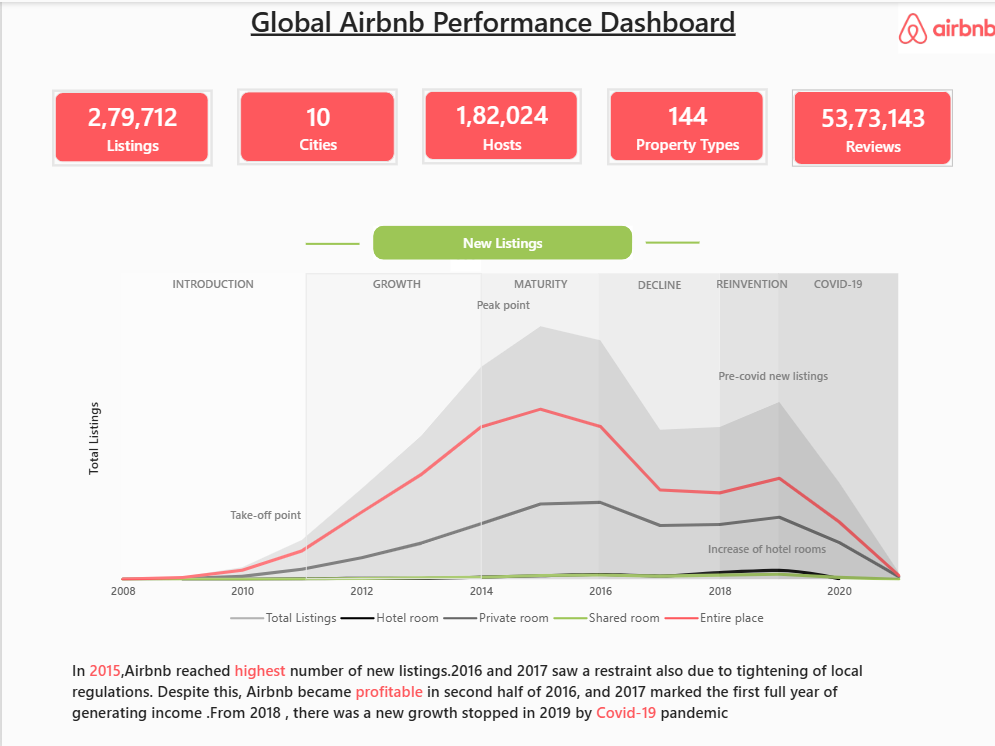

Layout of this report page (visuals, bound fields, positions):
{"tool":"powerbi","page":{"name":"Overview","canvas":[960,720],"ordinal":0},"visuals":[{"type":"textbox","box":[240,0,480,40],"z":0},{"type":"image","box":[864.4,0,95.6,50],"z":1000},{"type":"cardVisual","fields":{"Data":["Count(Listings.property_type)"]},"box":[583.8,83.2,155,74],"z":2000},{"type":"cardVisual","fields":{"Data":["Count(Listings.host_id)"]},"box":[405.7,83.2,154.4,73.6],"z":3000},{"type":"cardVisual","fields":{"Data":["CountNonNull(Listings.listing_id)"]},"box":[48.4,84.8,155,74],"z":4000},{"type":"cardVisual","fields":{"Data":["CountNonNull(Reviews.listing_id)"]},"box":[762.4,84.8,155,74],"z":5000},{"type":"cardVisual","fields":{"Data":["Count(Listings.city)"]},"box":[227,83.2,155,74],"z":6000},{"type":"lineChart","fields":{"Category":["Listings.host_since.Variation.Date Hierarchy.Year"],"Y":["CountNonNull(Listings.listing_id)","Listings.Hotel room","Listings.Private room","Listings.Shared room","Listings.Entire place"]},"box":[67.6,261.8,826,362],"z":7000},{"type":"shape","box":[293.2,205.1,51.9,56.7],"z":8000},{"type":"shape","box":[621.3,203.9,51.9,56.7],"z":9000},{"type":"shape","box":[114.6,261.8,178.6,295.6],"z":10000},{"type":"shape","box":[749.2,261.8,115.8,295.6],"z":11000},{"type":"shape","box":[463.3,261.8,112.2,295.6],"z":12000},{"type":"shape","box":[293.2,261.8,170.1,295.6],"z":13000},{"type":"shape","box":[575.5,261.8,117,295.6],"z":14000},{"type":"shape","box":[692.5,261.8,56.7,295.6],"z":15000},{"type":"textbox","box":[673.2,260.6,101.3,21.7],"z":16000},{"type":"textbox","box":[583.9,261.8,101.3,21.7],"z":17000},{"type":"textbox","box":[469.3,260.6,101.3,21.7],"z":18000},{"type":"textbox","box":[756.4,260.6,101.3,21.7],"z":19000},{"type":"textbox","box":[330.6,260.6,101.3,21.7],"z":20000},{"type":"textbox","box":[153.2,260.6,101.3,21.7],"z":21000},{"type":"textbox","box":[681.6,349.9,125.5,20.5],"z":22000},{"type":"textbox","box":[433.1,281.1,101.3,21.7],"z":23000},{"type":"textbox","box":[203.9,483.8,101.3,21.7],"z":24000},{"type":"textbox","box":[675.6,516.4,125.5,21.7],"z":25000},{"type":"textbox","box":[67.5,635,797.5,61.2],"z":26000},{"type":"shape","box":[358.2,216.2,250,32.5],"z":27000}]}

Visuals, with their boxes in screenshot pixels (x1, y1, x2, y2), scaled from the page's 960x720 canvas onto the 995x746 screenshot:
textbox: BBox(249, 0, 746, 41)
image: BBox(896, 0, 994, 52)
cardVisual - Count(Listings.property_type): BBox(605, 86, 766, 163)
cardVisual - Count(Listings.host_id): BBox(420, 86, 581, 162)
cardVisual - CountNonNull(Listings.listing_id): BBox(50, 88, 211, 165)
cardVisual - CountNonNull(Reviews.listing_id): BBox(790, 88, 951, 165)
cardVisual - Count(Listings.city): BBox(235, 86, 396, 163)
lineChart - Listings.host_since.Variation.Date Hierarchy.Year x CountNonNull(Listings.listing_id): BBox(70, 271, 926, 646)
shape: BBox(304, 213, 358, 271)
shape: BBox(644, 211, 698, 270)
shape: BBox(119, 271, 304, 578)
shape: BBox(777, 271, 897, 578)
shape: BBox(480, 271, 596, 578)
shape: BBox(304, 271, 480, 578)
shape: BBox(596, 271, 718, 578)
shape: BBox(718, 271, 777, 578)
textbox: BBox(698, 270, 803, 292)
textbox: BBox(605, 271, 710, 294)
textbox: BBox(486, 270, 591, 292)
textbox: BBox(784, 270, 889, 292)
textbox: BBox(343, 270, 448, 292)
textbox: BBox(159, 270, 264, 292)
textbox: BBox(706, 363, 837, 384)
textbox: BBox(449, 291, 554, 314)
textbox: BBox(211, 501, 316, 524)
textbox: BBox(700, 535, 830, 558)
textbox: BBox(70, 658, 897, 721)
shape: BBox(371, 224, 630, 258)
